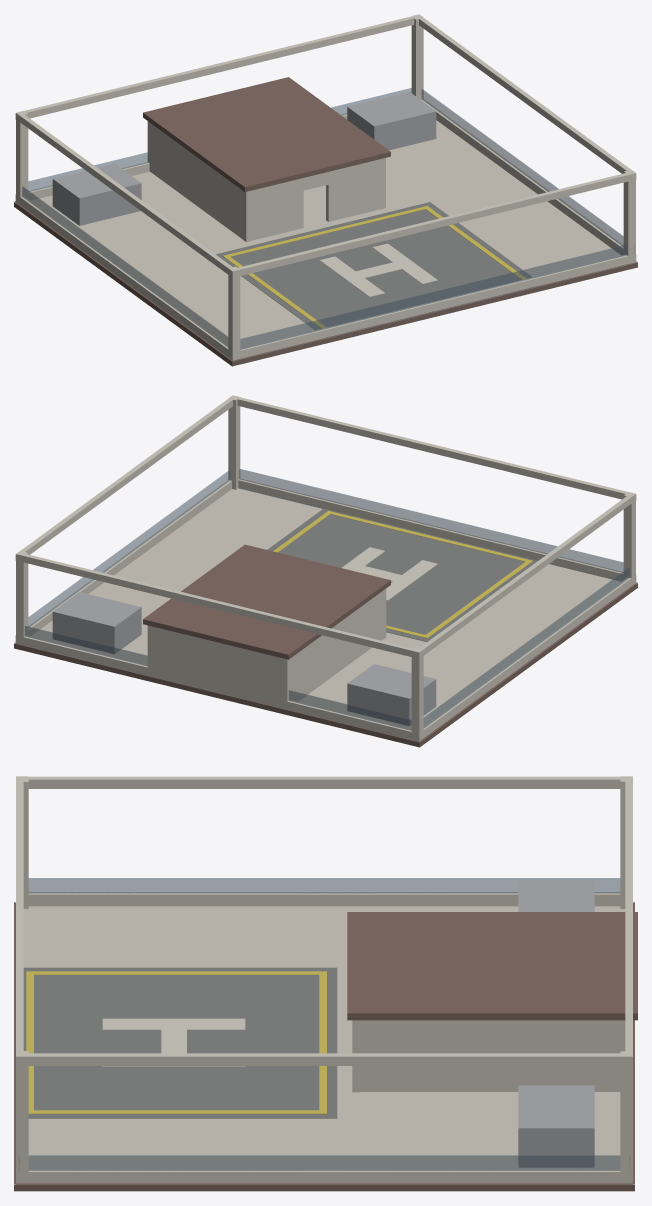
Rendered from brick-roof-a.zfix-v5.lod1.glb.
The picture shows the model from 3 angles, top to bottom: view 1: azimuth 30°, elevation 25°; view 2: azimuth 150°, elevation 25°; view 3: azimuth 270°, elevation 25°; orthographic projection. The views are drawn at different scales.
Visible parts, largest first — view 1: brick-roof-a; view 2: brick-roof-a; view 3: brick-roof-a.
Part boxes in pixels (x1,y1,x2,y2): brick-roof-a: [14, 14, 637, 366]; brick-roof-a: [14, 395, 637, 747]; brick-roof-a: [14, 776, 637, 1191].
Bounding box in the file's own units: 26.16 × 5.83 × 24.48.
